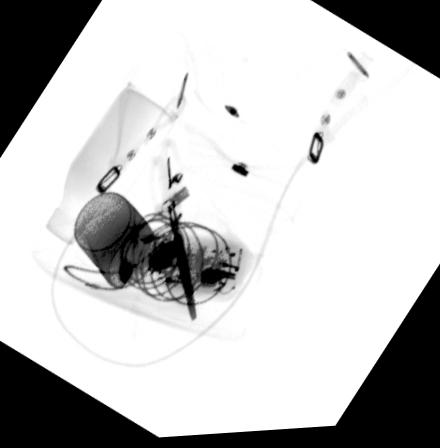Scissors: (146, 141, 198, 322)
